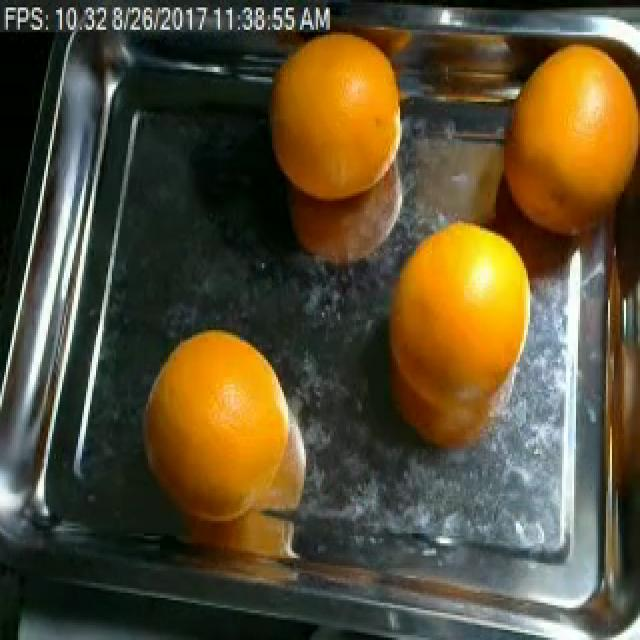Fruit: (124, 310, 308, 526), (248, 15, 402, 228), (404, 7, 540, 129)
